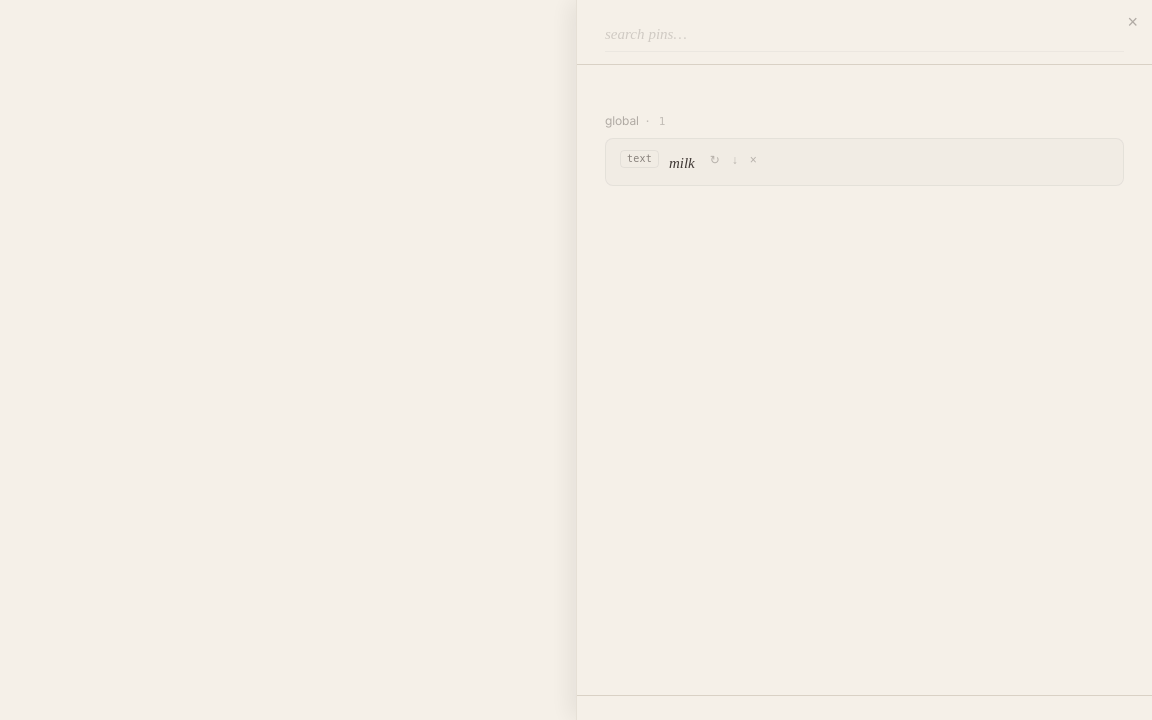
Test case: inline rename routes the title to the home the pin actually has › a note pin's title goes to the row — its paragraph cannot hold one
The image size is (1152, 720).
Click the text with class "row-title" at (682, 163), box [669,150,695,175]
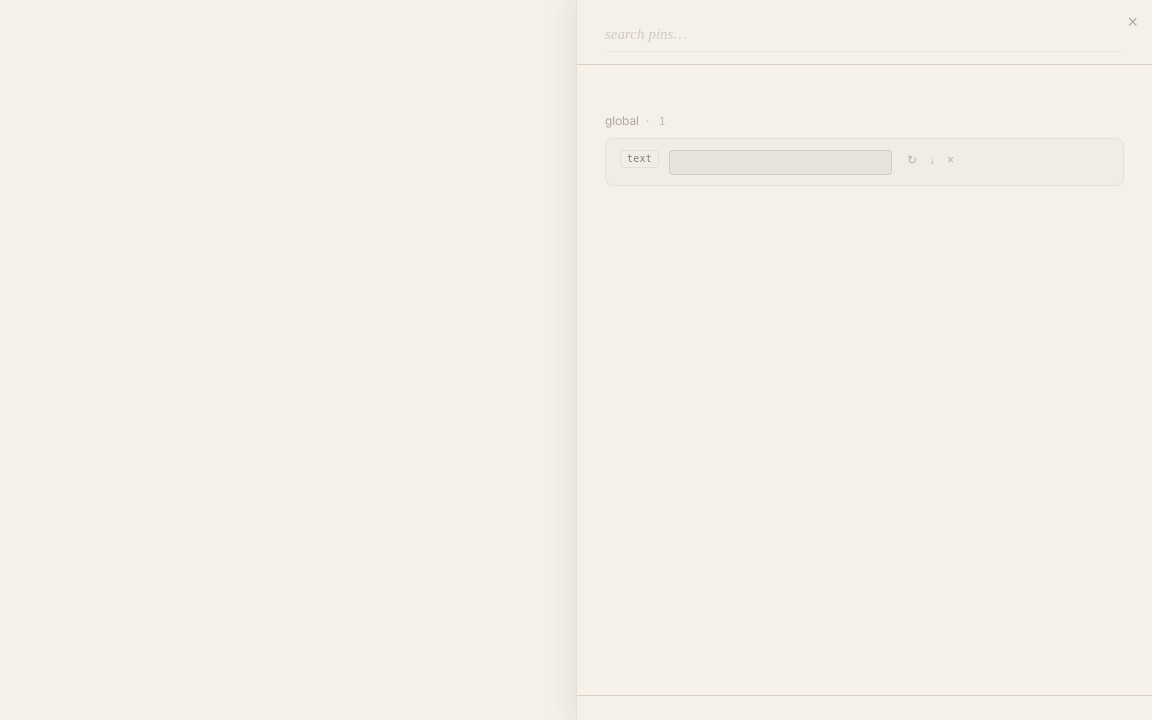
Type "grocery list" into the 2nd field at (780, 162), box [669,150,892,175]
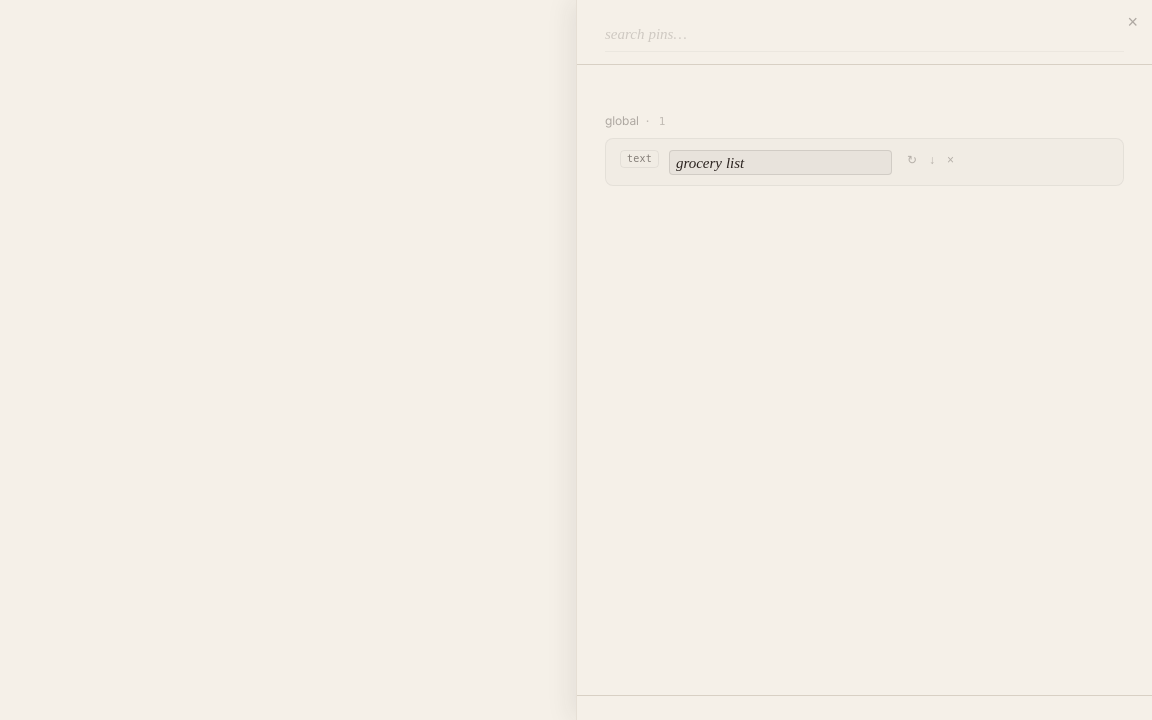
Press Enter in the 2nd field, box [669,150,892,175]
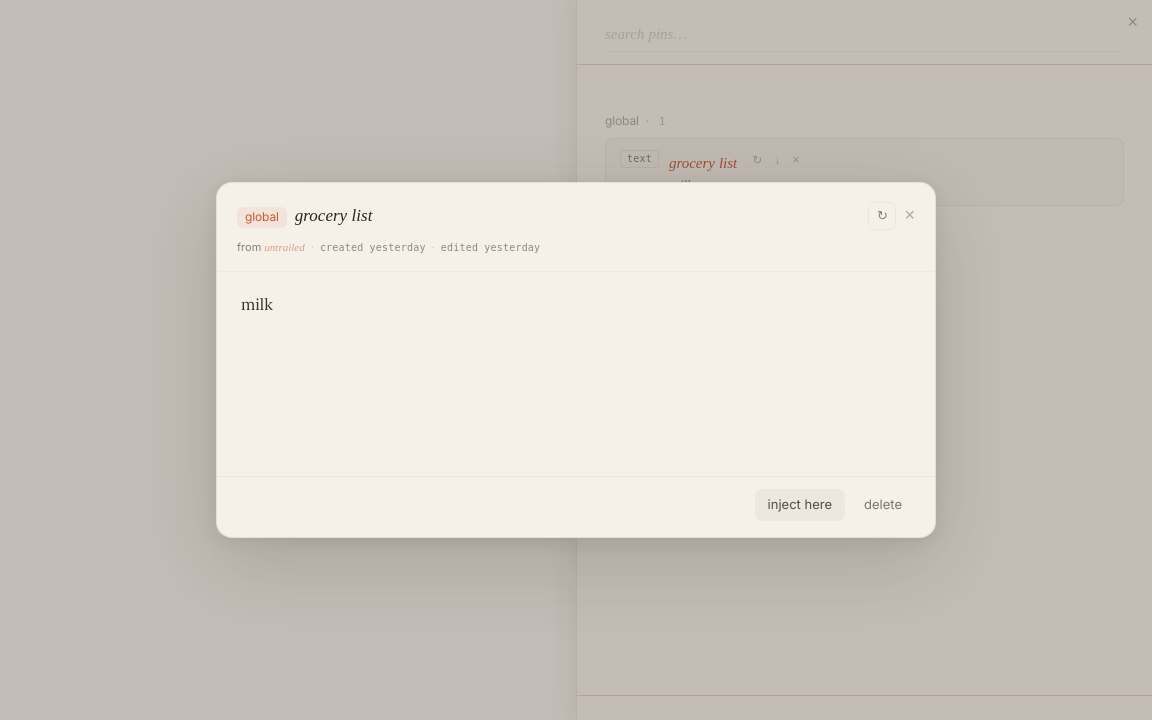
Expected: the text "grocery list" is shown, [669,150,737,175]
